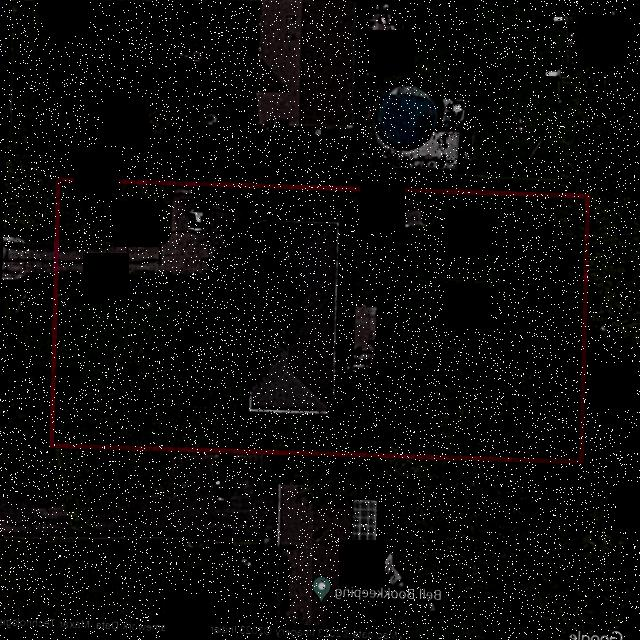Driveway: (58, 186, 260, 275)
Extra Driveway: (1, 235, 53, 279)
Extra Lawn: (0, 271, 53, 446), (3, 175, 56, 243)
House: (249, 221, 337, 412)
Other: (336, 303, 376, 370), (386, 199, 426, 227)
Sidewalk: (218, 274, 251, 301)
